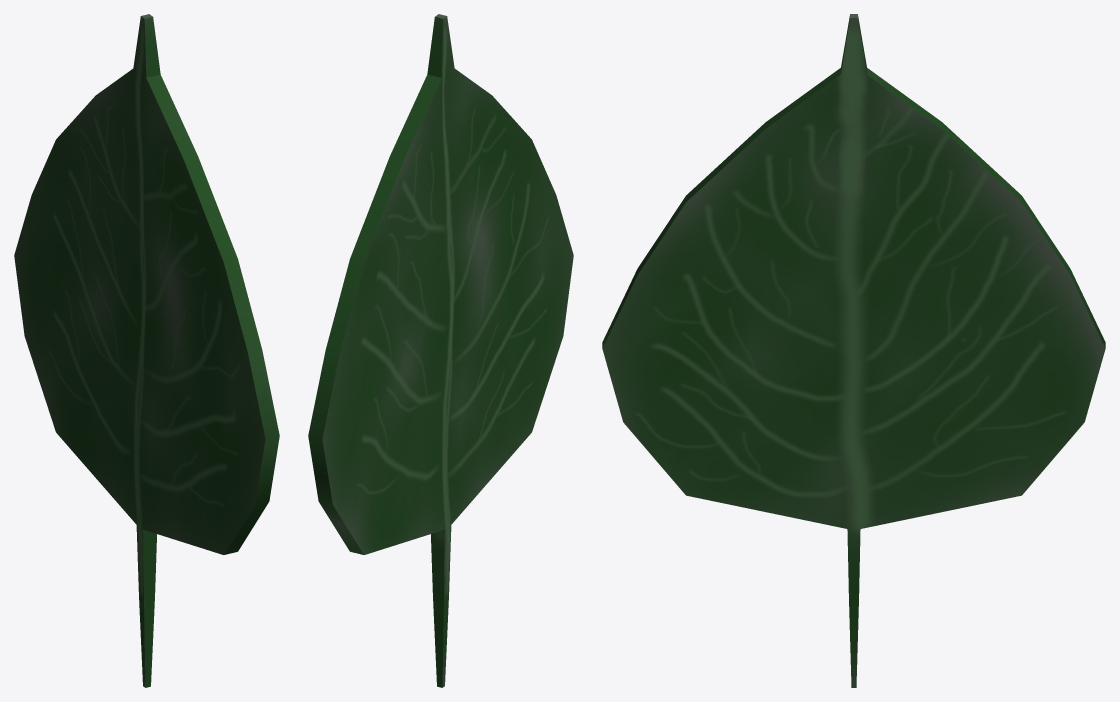
The model's file is MullberryLeaf.fbx.
3 views of the same model, side by side, from view 1: azimuth 30°, elevation 25°; view 2: azimuth 150°, elevation 25°; view 3: azimuth 270°, elevation 25° (orthographic).
Parts seen in each view (by area): view 1: MullberryLeaf; view 2: MullberryLeaf; view 3: MullberryLeaf.
Part boxes in pixels (x1,y1,x2,y2): MullberryLeaf: (14,14,279,687); MullberryLeaf: (308,14,573,687); MullberryLeaf: (602,14,1105,687).
Bounding box in the file's own units: 1.83 × 82.13 × 55.84.
1 material, 1 textured.
